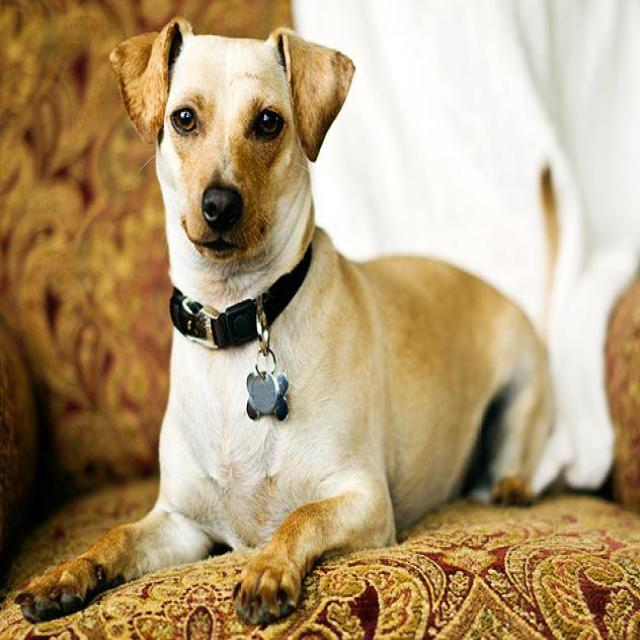Dog: (95, 11, 362, 297)
